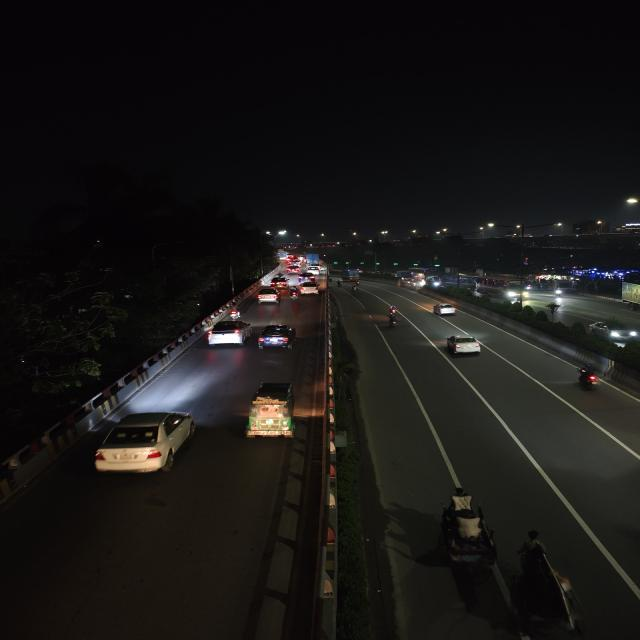bus: (476, 274, 528, 302), (440, 272, 479, 288)
car: (88, 406, 204, 481), (586, 318, 640, 346), (204, 319, 254, 348), (256, 322, 298, 350), (443, 332, 482, 358), (255, 287, 282, 305), (430, 301, 459, 317), (298, 282, 321, 296), (270, 275, 290, 288), (299, 272, 313, 283), (285, 264, 302, 273), (307, 265, 321, 275)
cng: (241, 381, 299, 444)
motorcycle: (571, 361, 605, 395), (385, 308, 401, 328), (226, 306, 244, 320), (288, 286, 301, 300)
rickshaw: (420, 497, 520, 579)
truck: (618, 277, 640, 312), (553, 278, 578, 292), (340, 268, 363, 282)
